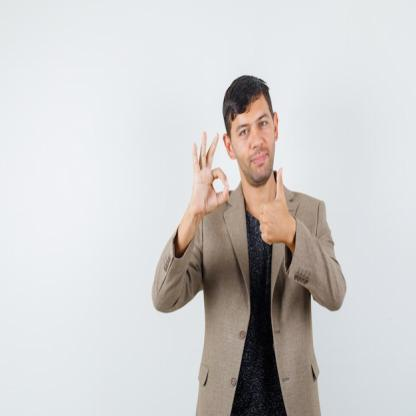ok: (190, 128, 230, 220)
thumb_up: (258, 163, 294, 250)
